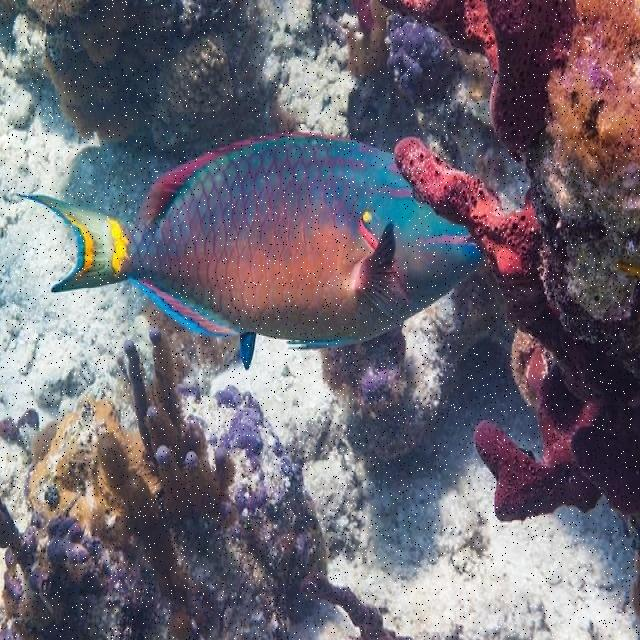fish: (12, 131, 482, 373)
reefs: (373, 0, 639, 532), (0, 329, 328, 639)
